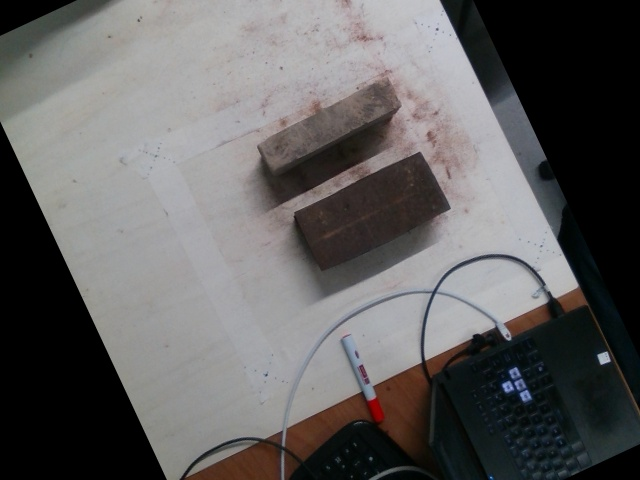brick: (295, 149, 449, 269)
brick-side: (259, 78, 400, 168)
